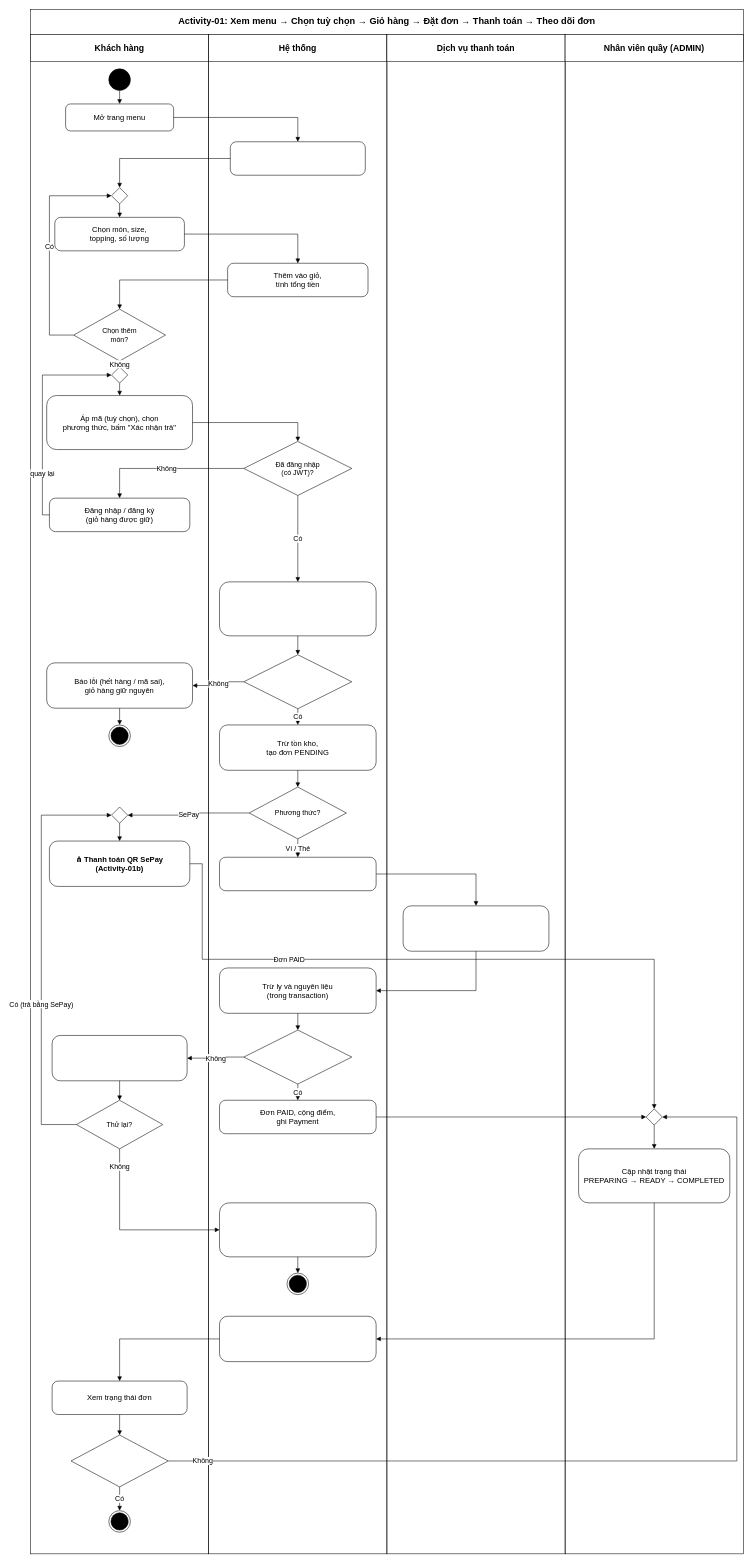
Some shapes in this 753 by 1563 pixel diagram are drawn without their labels. The shapes that lost their labels are listed below. From the top down, each one's centre as x and y in pixels, then its label:
point (297, 158): Hiển thị menu (GET /products)
point (297, 608): Tạo đơn: kiểm tra dữ liệu, tính giá, mã giảm giá, tồn kho
point (297, 681): Hợp lệ và đủ hàng?
point (297, 874): Gửi POST /payments (kèm Idempotency-Key)
point (476, 928): Xử lý giao dịch (mô phỏng, luôn chấp nhận)
point (119, 1058): Báo lỗi, đơn vẫn PENDING (rollback)
point (297, 1057): Đủ ly và nguyên liệu?
point (297, 1229): Quá 10 phút: tự huỷ đơn, hoàn tồn kho
point (297, 1339): Kiểm tra bước chuyển, lưu trạng thái mới
point (119, 1461): Đơn đã hoàn tất?
